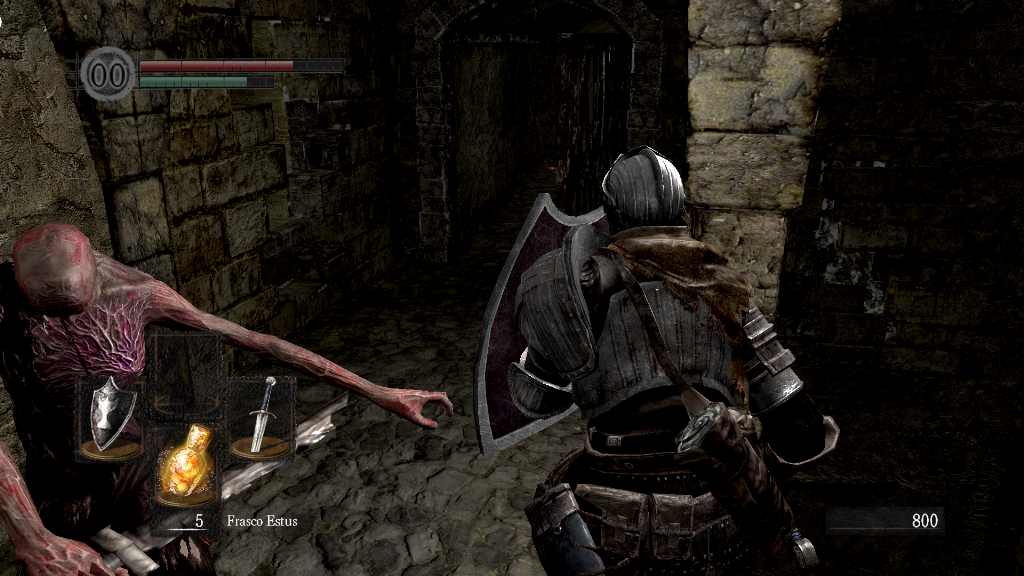health: (138, 58, 343, 71)
hollow: (1, 223, 454, 576)
humanity: (80, 45, 136, 102)
player: (472, 145, 842, 576)
souls: (825, 506, 945, 536)
stamina: (138, 74, 274, 88)
